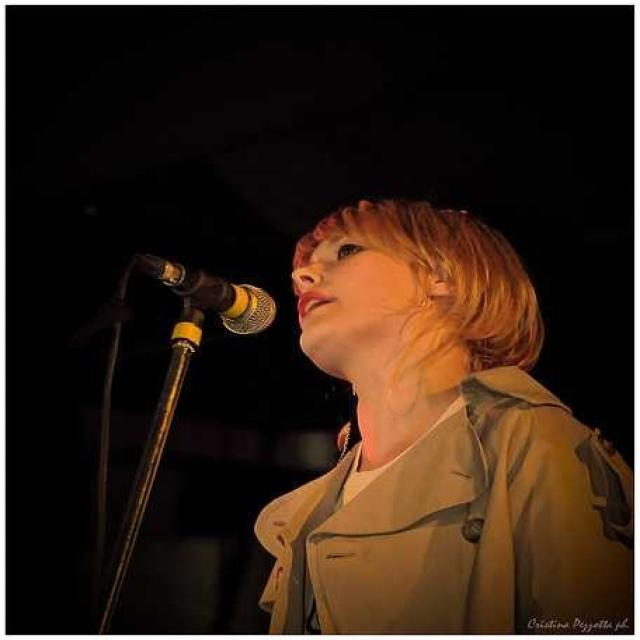microphone: (134, 252, 274, 332)
